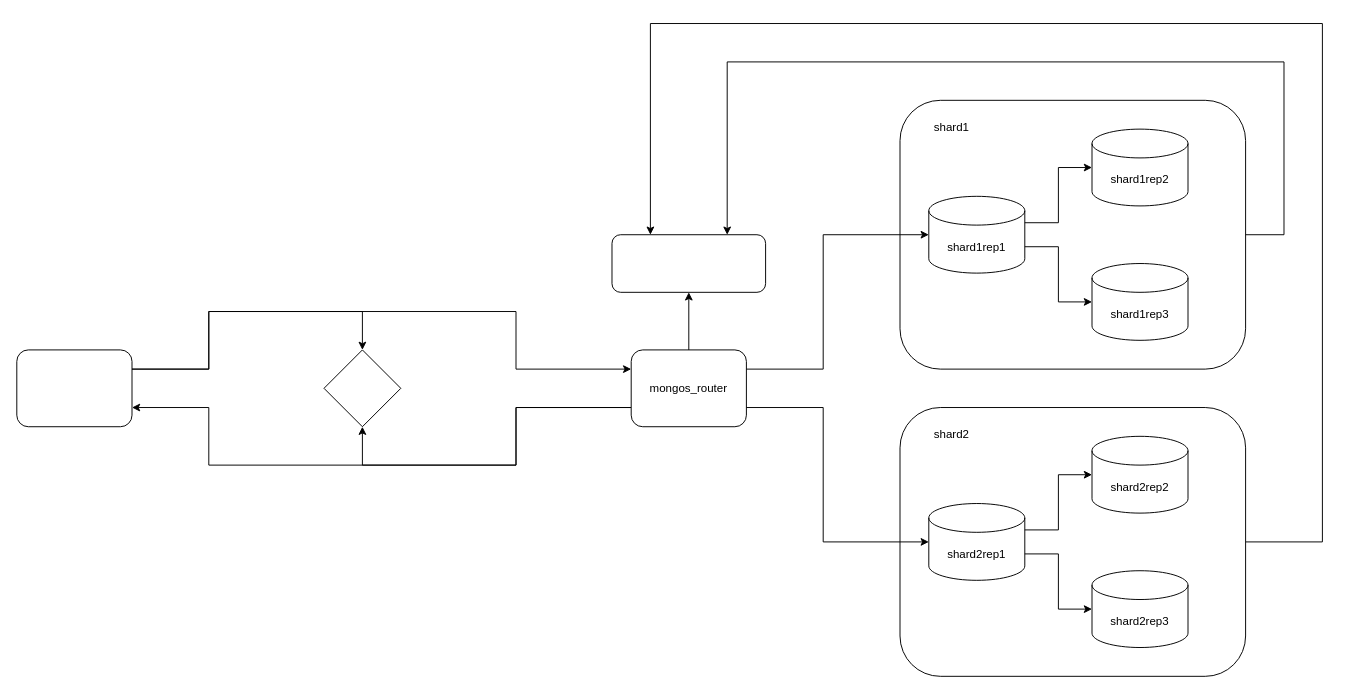
Image size: 1347x693. Some labels were removed from this diagram. The shapes that lost their labels are listed below. From the top down, each one's box as (x1, y1, x2, y2) in pixels, then its label:
(611, 234, 766, 292): configSrv
(16, 349, 132, 427): pymongo-api
(323, 349, 401, 427): redis
